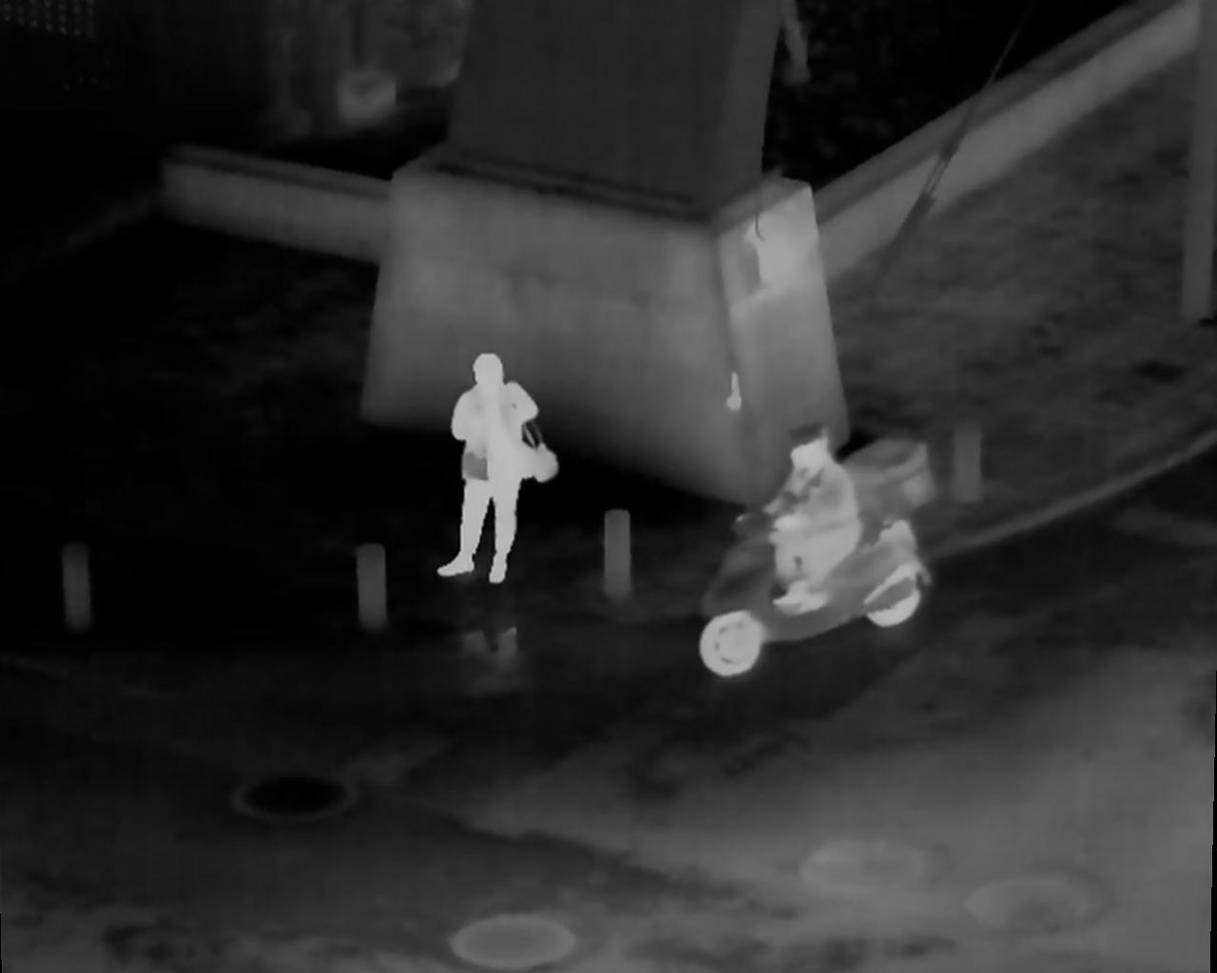person: (748, 425, 881, 652), (444, 348, 559, 587)
